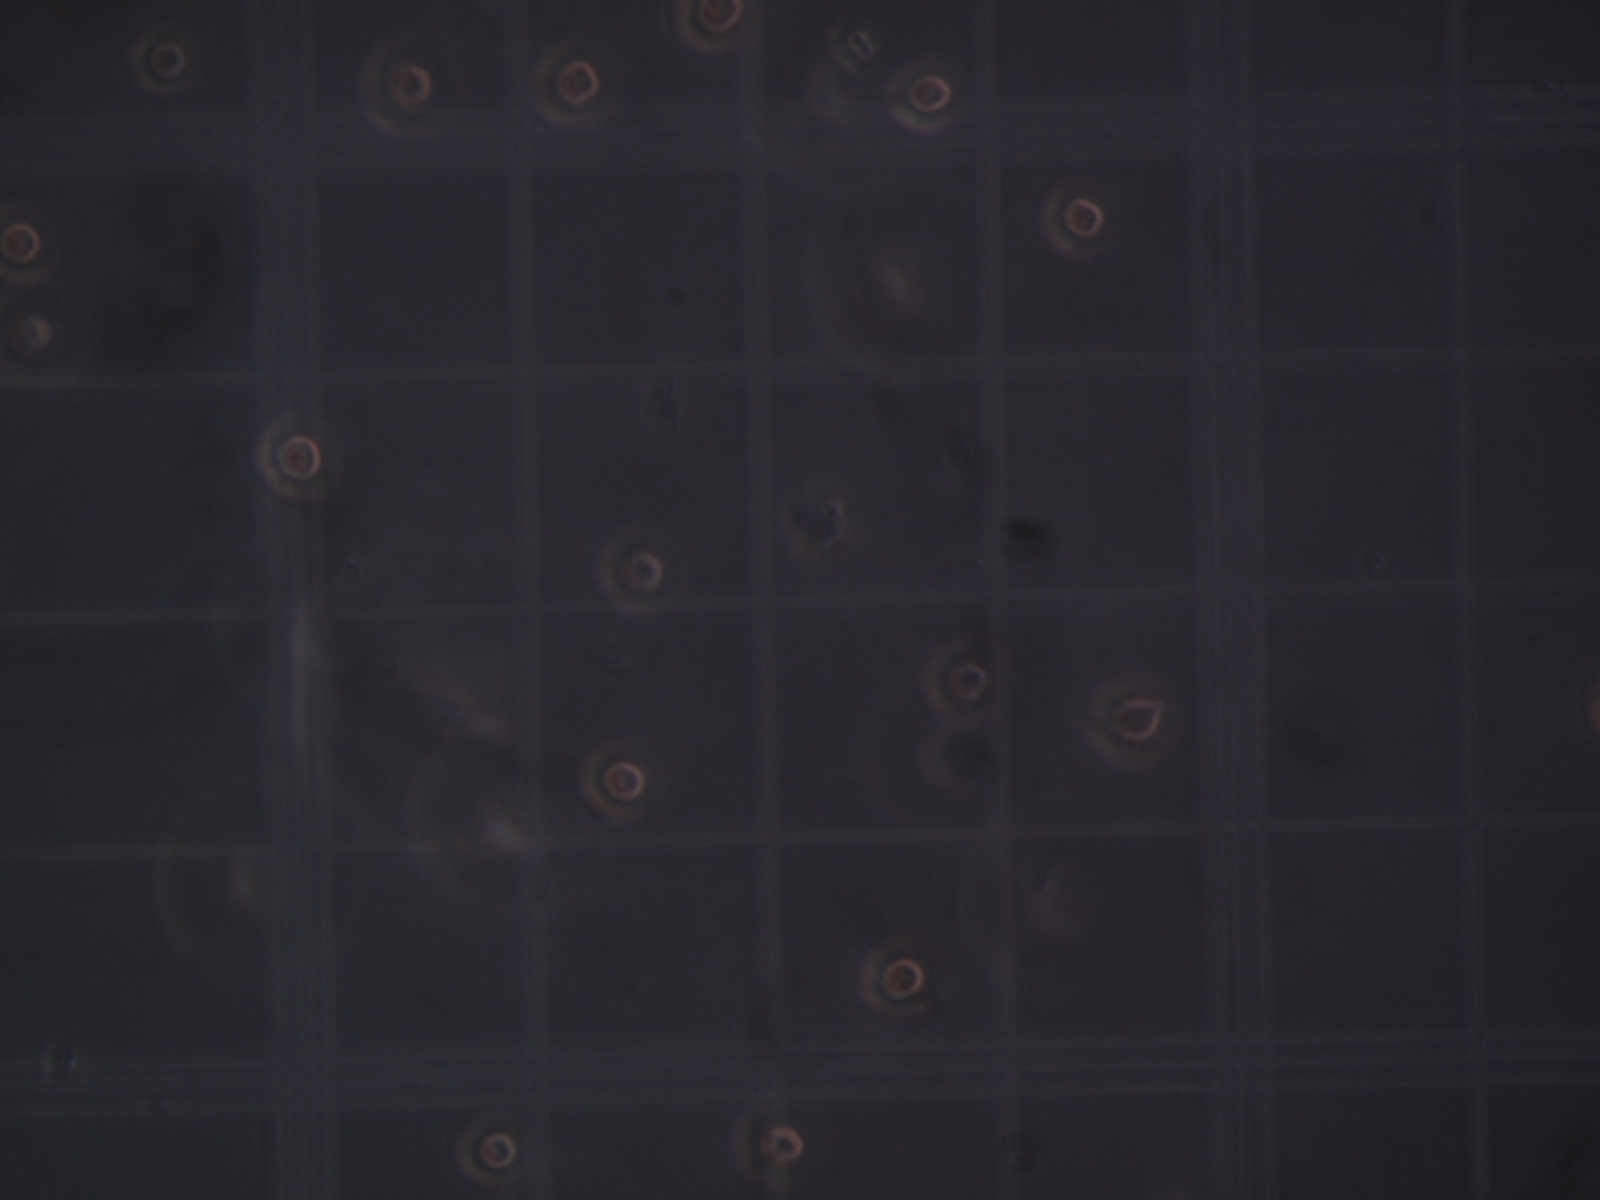hemo: (1085, 678, 1164, 769), (358, 45, 433, 139), (595, 531, 664, 614), (732, 1107, 804, 1186), (532, 48, 600, 129), (923, 642, 988, 724), (254, 424, 321, 499), (1, 295, 54, 389), (580, 746, 645, 821), (859, 945, 923, 1017), (886, 66, 952, 134), (1042, 187, 1104, 258), (456, 1119, 517, 1186), (677, 1, 750, 54), (130, 32, 186, 95), (1, 208, 43, 285)
